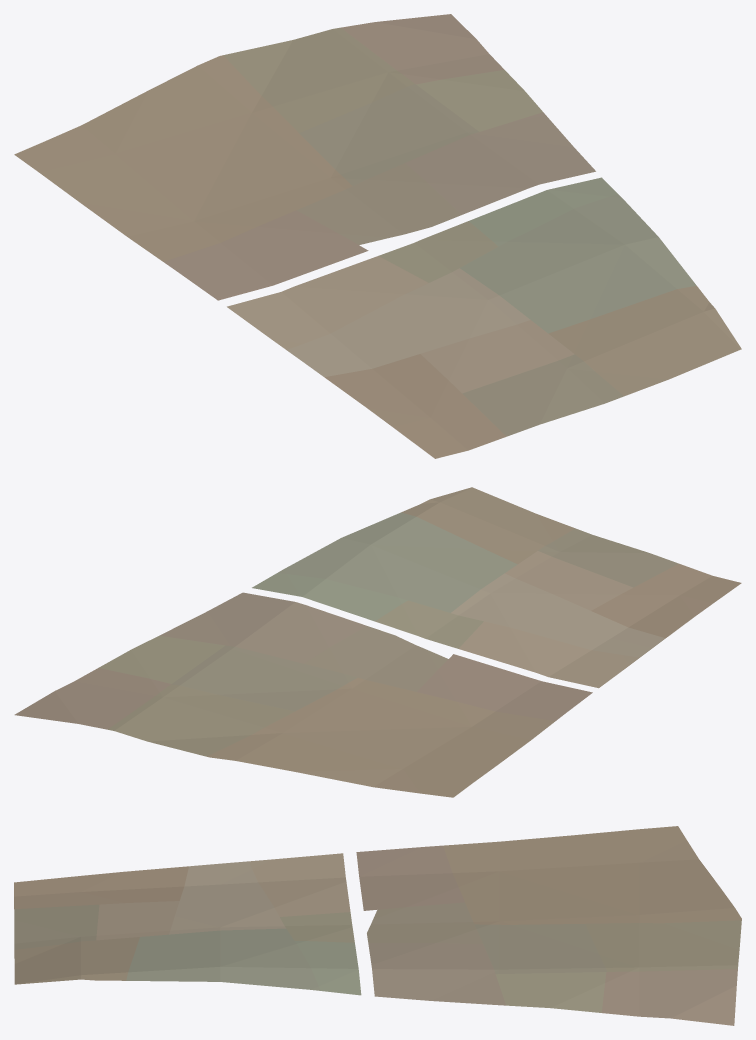
File: farm_9_22_soil.glb
The picture shows the model from 3 angles, top to bottom: view 1: azimuth 30°, elevation 25°; view 2: azimuth 150°, elevation 25°; view 3: azimuth 270°, elevation 25°; orthographic projection. The views are drawn at different scales.
Parts seen in each view (by area): view 1: geometry_0; view 2: geometry_0; view 3: geometry_0.
Boxes of the visible parts, x1,y1,x2,y2 form: geometry_0: (14, 14, 741, 458); geometry_0: (14, 487, 741, 797); geometry_0: (14, 826, 741, 1025).
Size of the model in its own units: 275 by 31.34 by 417.
